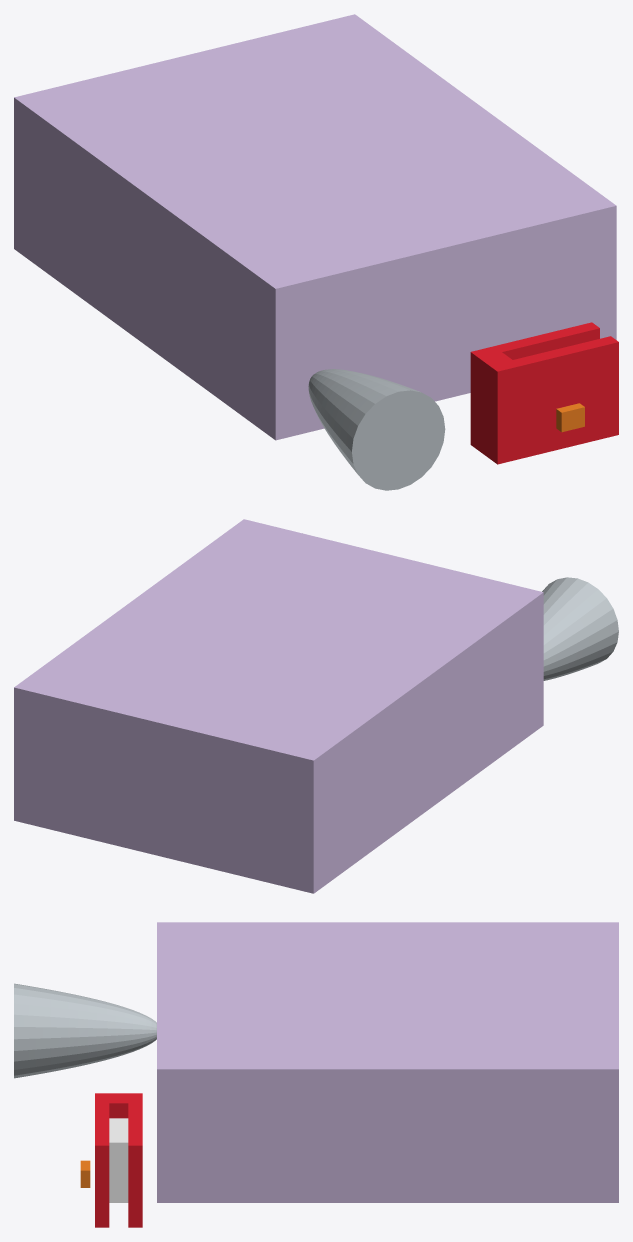
File: tinker.obj
The picture shows the model from 3 angles, top to bottom: view 1: azimuth 30°, elevation 25°; view 2: azimuth 150°, elevation 25°; view 3: azimuth 270°, elevation 25°; orthographic projection. The views are drawn at different scales.
Visible parts, largest first — view 1: group_0_13877221, group_0_15277357, group_0_12568524, group_0_16089887; view 2: group_0_13877221, group_0_12568524; view 3: group_0_13877221, group_0_12568524, group_0_15277357, group_0_16448250.
Part boxes in pixels (x1,y1,x2,y2): group_0_13877221: (14, 14, 616, 440); group_0_15277357: (470, 322, 618, 464); group_0_12568524: (308, 369, 445, 490); group_0_16089887: (556, 403, 584, 432); group_0_13877221: (14, 519, 543, 893); group_0_12568524: (542, 577, 618, 680); group_0_13877221: (157, 922, 618, 1202); group_0_12568524: (14, 983, 156, 1078); group_0_15277357: (95, 1093, 142, 1227); group_0_16448250: (109, 1118, 128, 1202).
Bounding box in the file's own units: 74 × 45 × 127.
